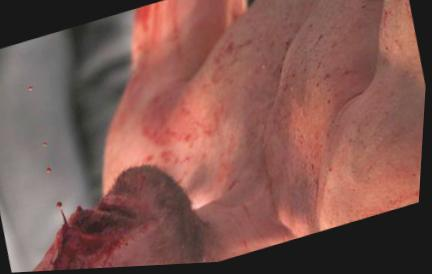Fire: (107, 0, 427, 241), (36, 167, 186, 272), (58, 202, 69, 225), (46, 166, 55, 175), (26, 85, 33, 95), (43, 141, 48, 148)
